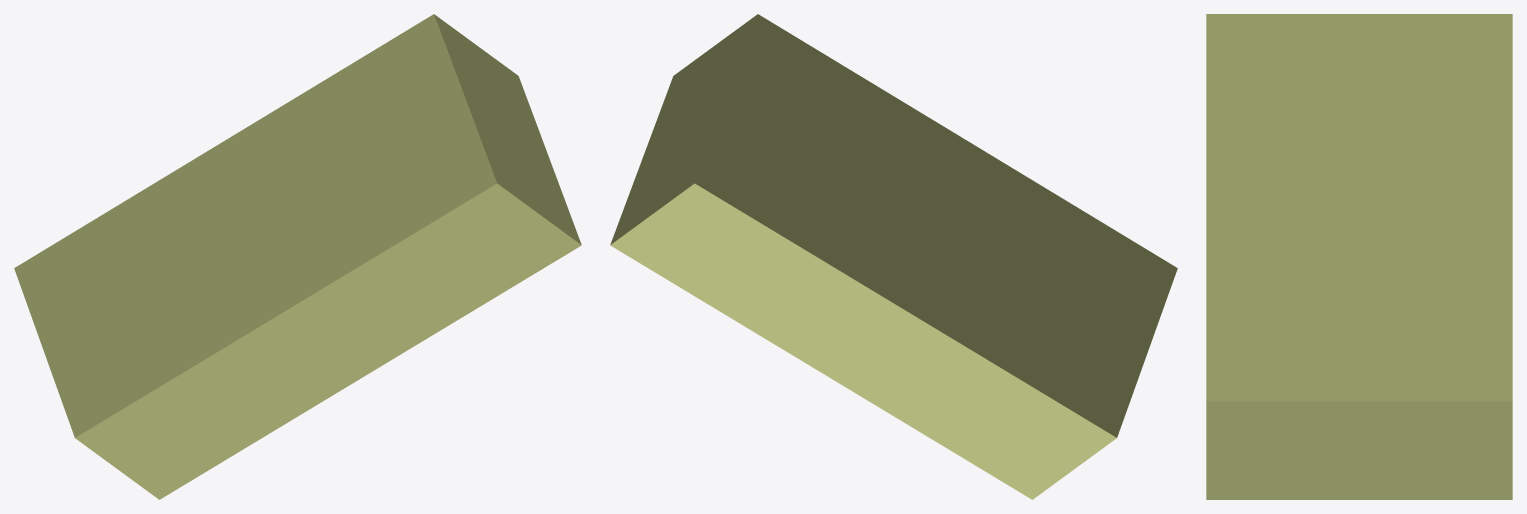
3 views of the same model, side by side, from view 1: azimuth 30°, elevation 25°; view 2: azimuth 150°, elevation 25°; view 3: azimuth 270°, elevation 25° (orthographic). The views are drawn at different scales.
Parts seen in each view (by area): view 1: 0_1_1_3_3_0_1_3_1; view 2: 0_1_1_3_3_0_1_3_1; view 3: 0_1_1_3_3_0_1_3_1.
Boxes of the visible parts, bbox=[...] form: 0_1_1_3_3_0_1_3_1: bbox=[14, 14, 581, 499]; 0_1_1_3_3_0_1_3_1: bbox=[610, 14, 1177, 499]; 0_1_1_3_3_0_1_3_1: bbox=[1206, 14, 1512, 499].
Size of the model in its own units: 19.77 by 13.16 by 6.
